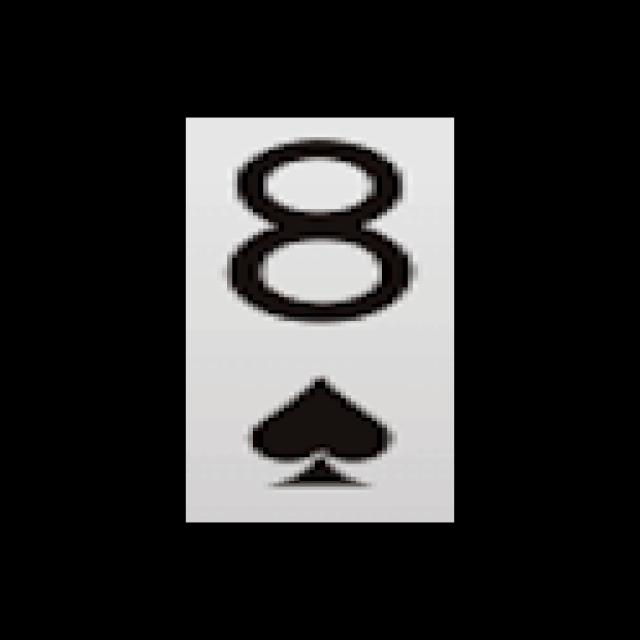8S: (210, 128, 430, 508)
